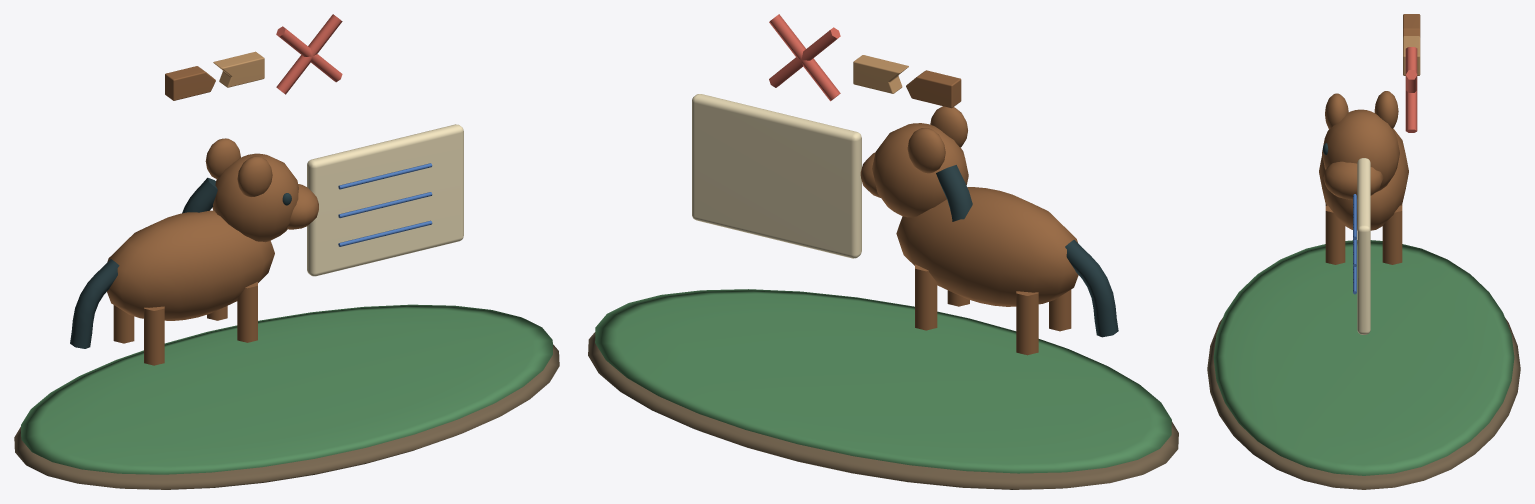
The model's file is complete-third-horse-banner-deception.glb.
3 renders of one model, left to right at view 1: azimuth 30°, elevation 25°; view 2: azimuth 150°, elevation 25°; view 3: azimuth 270°, elevation 25°, orthographic. The views are drawn at different scales.
Visible parts, largest first — view 1: complete-third-horse-banner-deception_surface_01, complete-third-horse-banner-deception_surface_02, complete-third-horse-banner-deception_surface_04, complete-third-horse-banner-deception_surface_00, complete-third-horse-banner-deception_surface_03, complete-third-horse-banner-deception_surface_07, complete-third-horse-banner-deception_surface_05, complete-third-horse-banner-deception_surface_06; view 2: complete-third-horse-banner-deception_surface_01, complete-third-horse-banner-deception_surface_02, complete-third-horse-banner-deception_surface_04, complete-third-horse-banner-deception_surface_00, complete-third-horse-banner-deception_surface_03, complete-third-horse-banner-deception_surface_07, complete-third-horse-banner-deception_surface_06; view 3: complete-third-horse-banner-deception_surface_01, complete-third-horse-banner-deception_surface_02, complete-third-horse-banner-deception_surface_00, complete-third-horse-banner-deception_surface_04, complete-third-horse-banner-deception_surface_07, complete-third-horse-banner-deception_surface_06, complete-third-horse-banner-deception_surface_05.
Boxes of the visible parts, left/top/right/bottom form: complete-third-horse-banner-deception_surface_01: left=21, top=304, right=552, bottom=474; complete-third-horse-banner-deception_surface_02: left=107, top=66, right=318, bottom=365; complete-third-horse-banner-deception_surface_04: left=307, top=124, right=463, bottom=276; complete-third-horse-banner-deception_surface_00: left=14, top=344, right=559, bottom=489; complete-third-horse-banner-deception_surface_03: left=70, top=177, right=291, bottom=348; complete-third-horse-banner-deception_surface_07: left=276, top=14, right=342, bottom=94; complete-third-horse-banner-deception_surface_05: left=338, top=163, right=432, bottom=246; complete-third-horse-banner-deception_surface_06: left=213, top=51, right=264, bottom=87; complete-third-horse-banner-deception_surface_01: left=595, top=289, right=1171, bottom=473; complete-third-horse-banner-deception_surface_02: left=860, top=70, right=1078, bottom=355; complete-third-horse-banner-deception_surface_04: left=692, top=94, right=861, bottom=258; complete-third-horse-banner-deception_surface_00: left=588, top=332, right=1178, bottom=489; complete-third-horse-banner-deception_surface_03: left=936, top=165, right=1118, bottom=337; complete-third-horse-banner-deception_surface_07: left=769, top=14, right=840, bottom=101; complete-third-horse-banner-deception_surface_06: left=853, top=55, right=908, bottom=93; complete-third-horse-banner-deception_surface_01: left=1213, top=240, right=1514, bottom=475; complete-third-horse-banner-deception_surface_02: left=1319, top=14, right=1420, bottom=264; complete-third-horse-banner-deception_surface_00: left=1207, top=318, right=1520, bottom=489; complete-third-horse-banner-deception_surface_04: left=1357, top=158, right=1370, bottom=334; complete-third-horse-banner-deception_surface_07: left=1405, top=47, right=1417, bottom=132; complete-third-horse-banner-deception_surface_06: left=1403, top=36, right=1420, bottom=75; complete-third-horse-banner-deception_surface_05: left=1353, top=194, right=1356, bottom=294.
Size of the model in its own units: 4.56 by 3.06 by 2.5.
